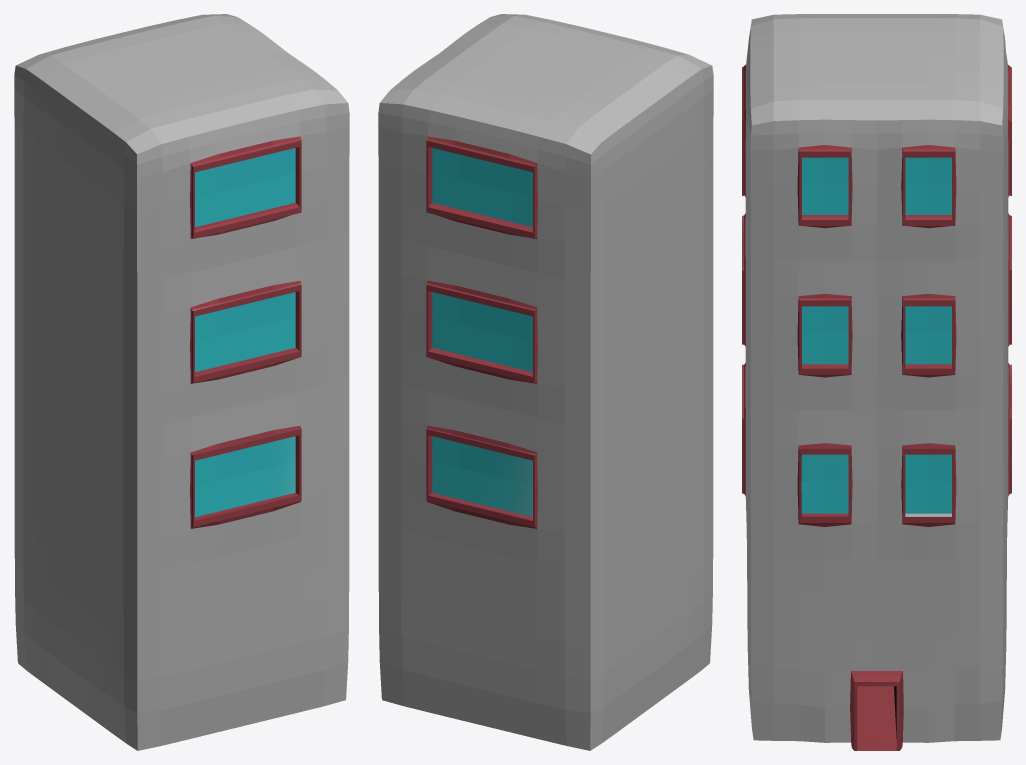
Rendered from Building1.fbx.
The picture shows the model from 3 angles, left to right: view 1: azimuth 30°, elevation 25°; view 2: azimuth 150°, elevation 25°; view 3: azimuth 270°, elevation 25°; orthographic projection. The views are drawn at different scales.
Parts seen in each view (by area): view 1: Cube; view 2: Cube; view 3: Cube.
Boxes of the visible parts, left/top/right/bottom form: Cube: left=14, top=14, right=349, bottom=750; Cube: left=378, top=14, right=713, bottom=750; Cube: left=742, top=14, right=1011, bottom=750.
Size of the model in its own units: 3313 by 8260 by 3205.
